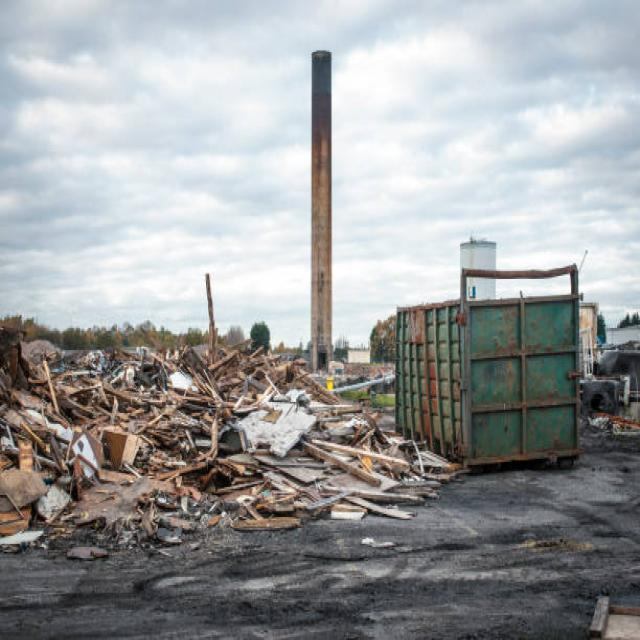cardboard: (15, 341, 387, 518)
metal: (389, 287, 580, 462)
